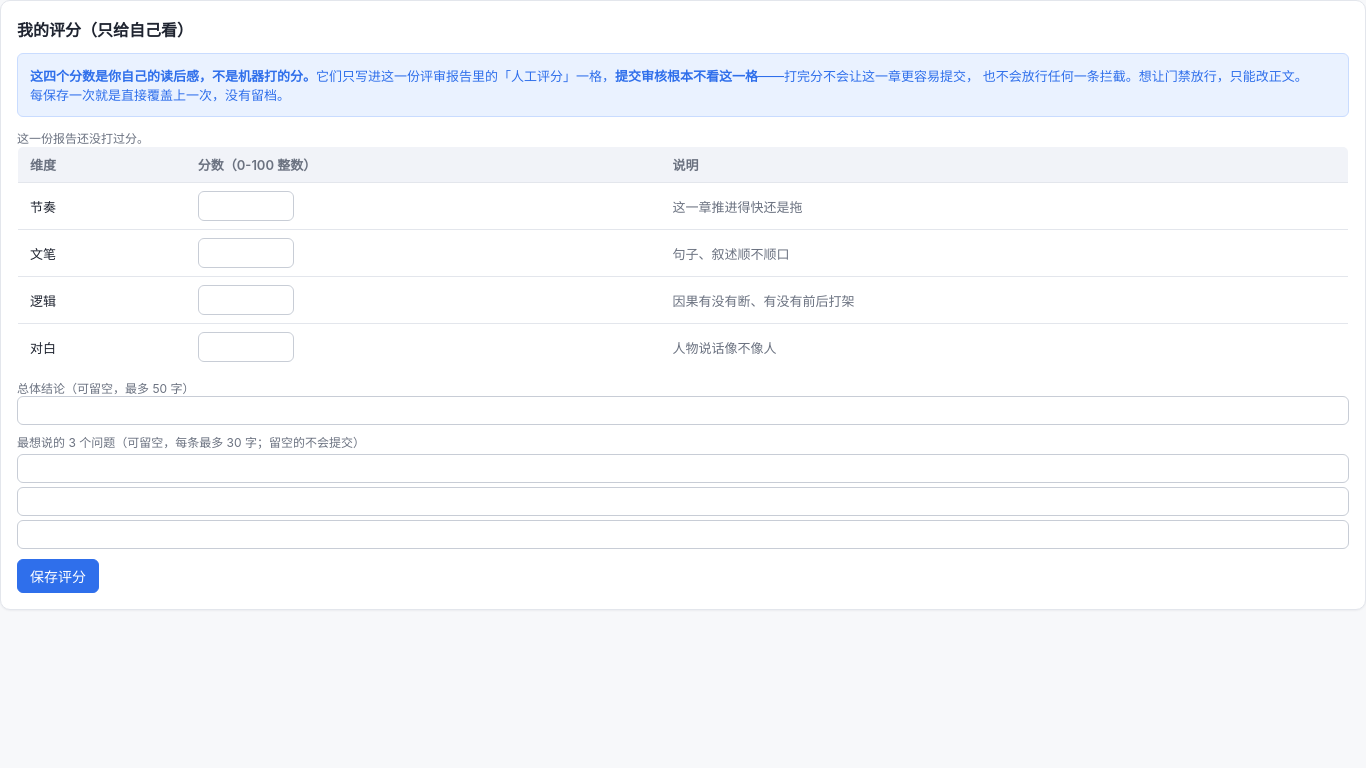
Test case: ChapterJudgeSection › 提交成功 ⇒ 展示服务端回读的那一份分（含夹取结果）
Expected: the button with test id "judge-submit" is enabled, 17,559 -> 99,593
Type "80" into the field with test id "judge-score-pacing" at (246,206), box 198,191 -> 294,221
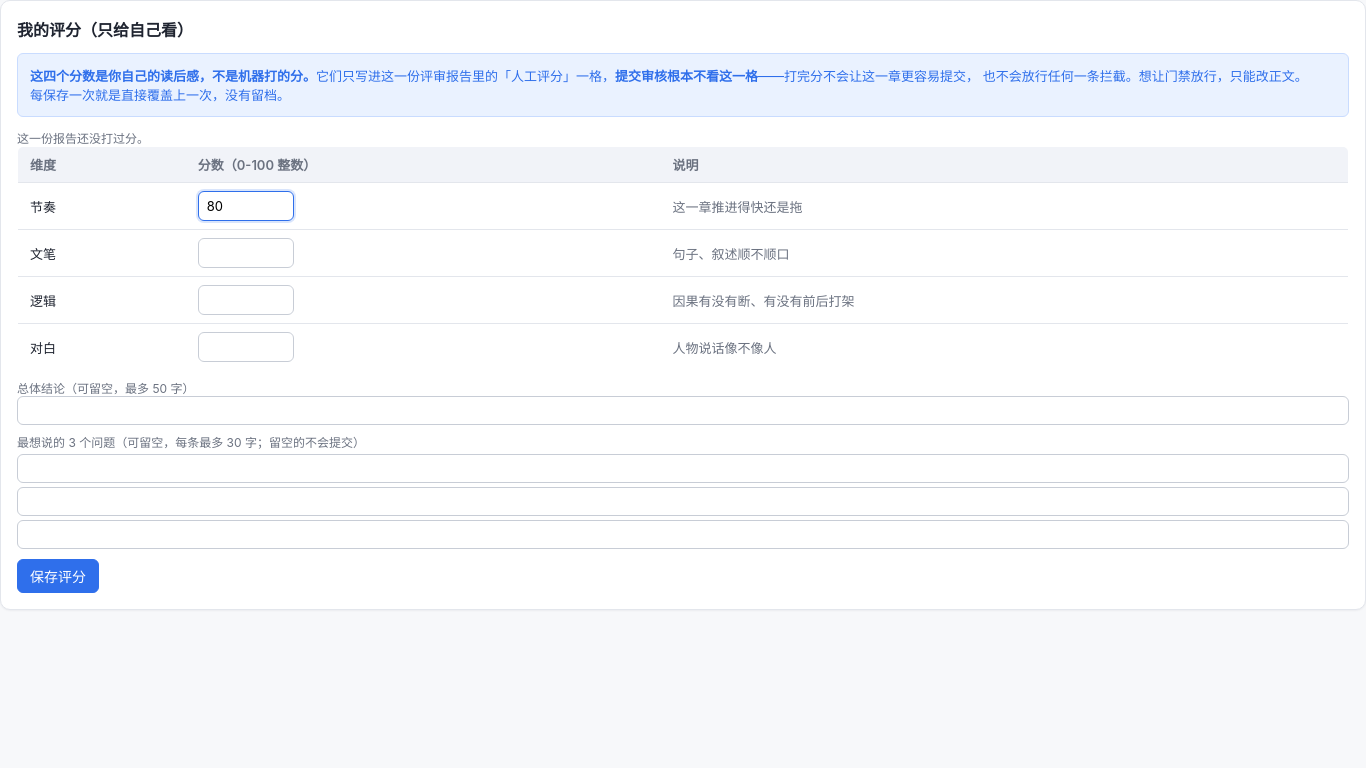
Type "75" into the field with test id "judge-score-style" at (246,253), box 198,238 -> 294,268
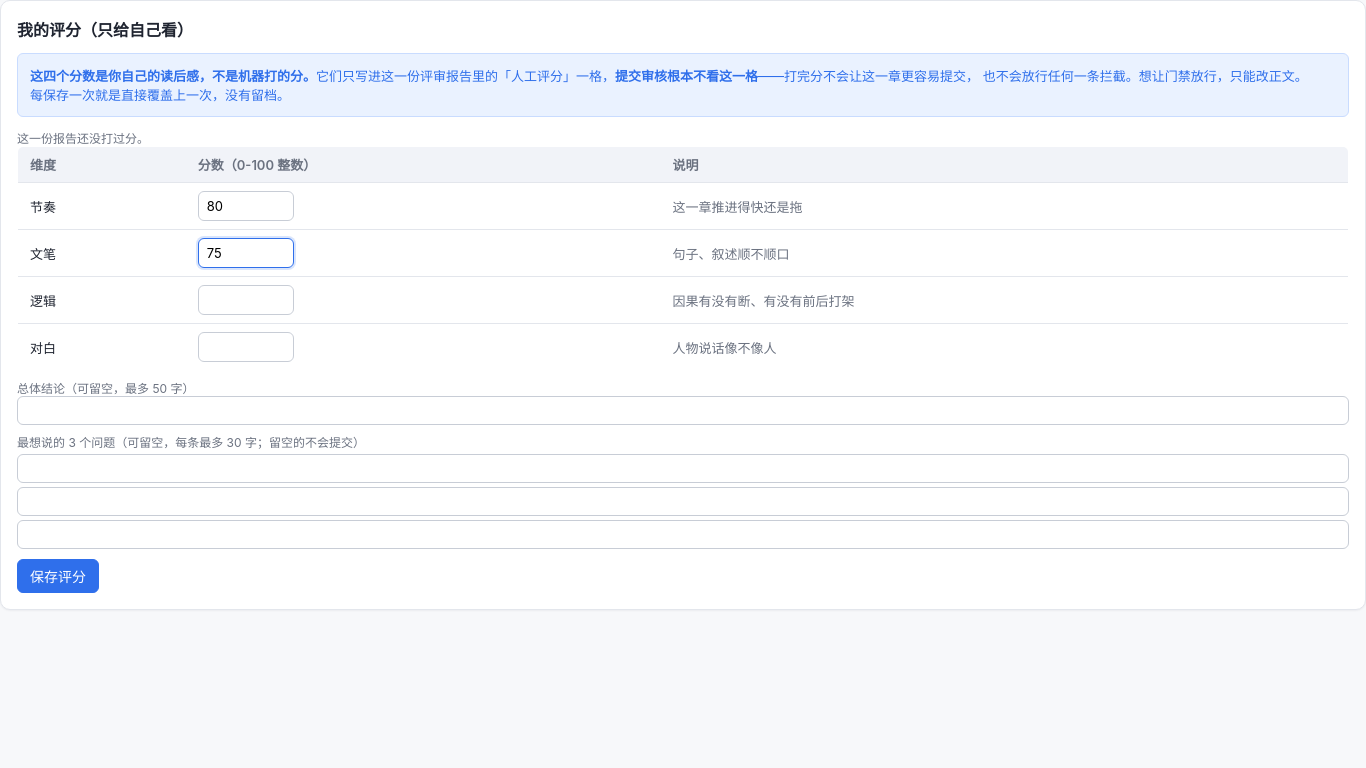
Type "88" into the field with test id "judge-score-logic" at (246,300), box 198,285 -> 294,315
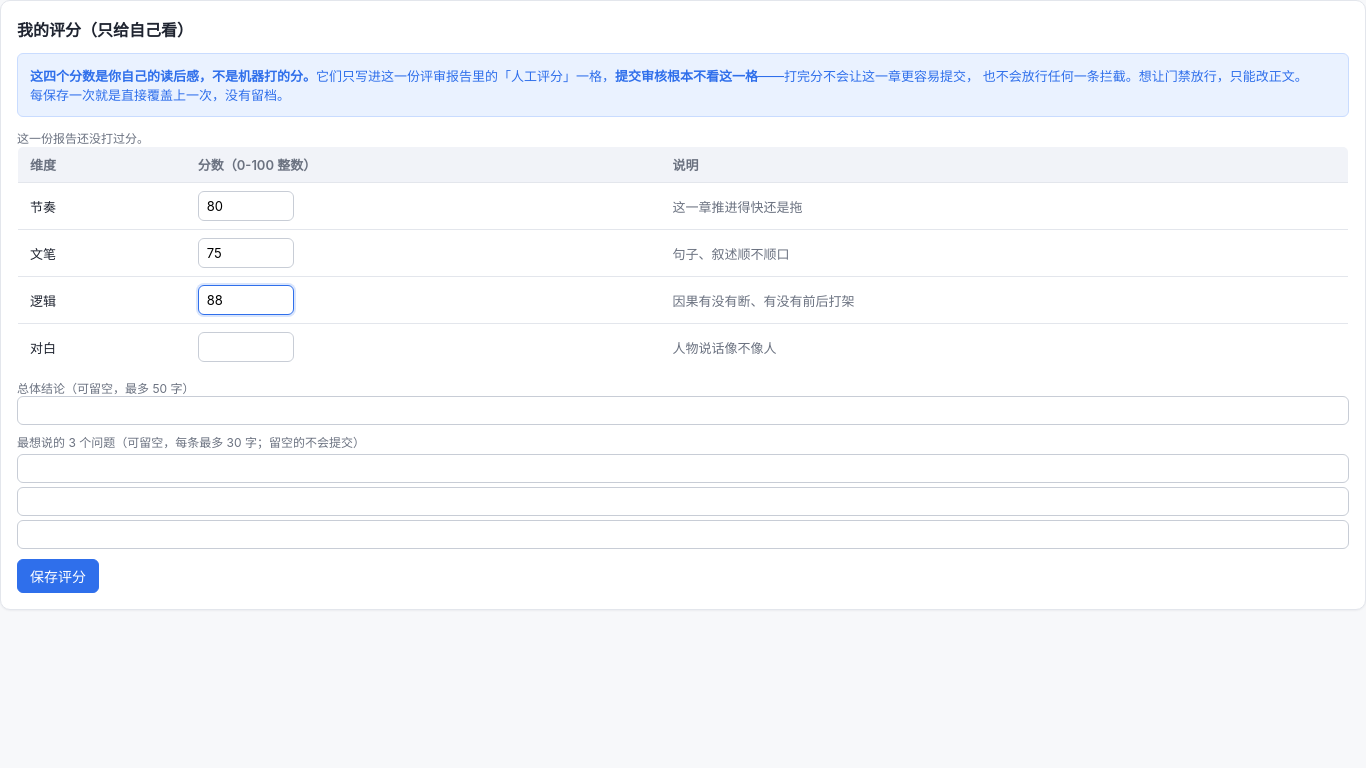
Type "70" into the field with test id "judge-score-dialogue" at (246,347), box 198,332 -> 294,362
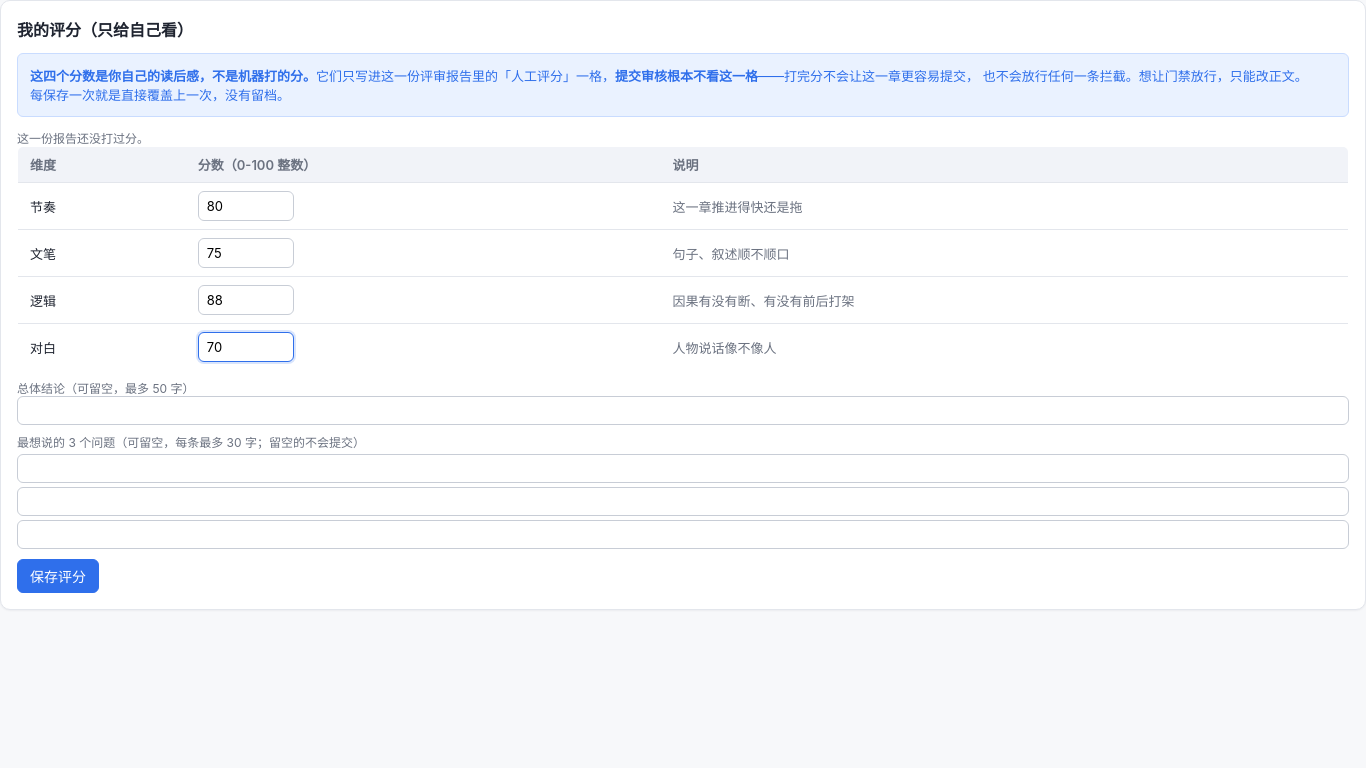
Type "收尾再紧一点" into the field with test id "judge-verdict" at (683,410), box 17,396 -> 1349,425
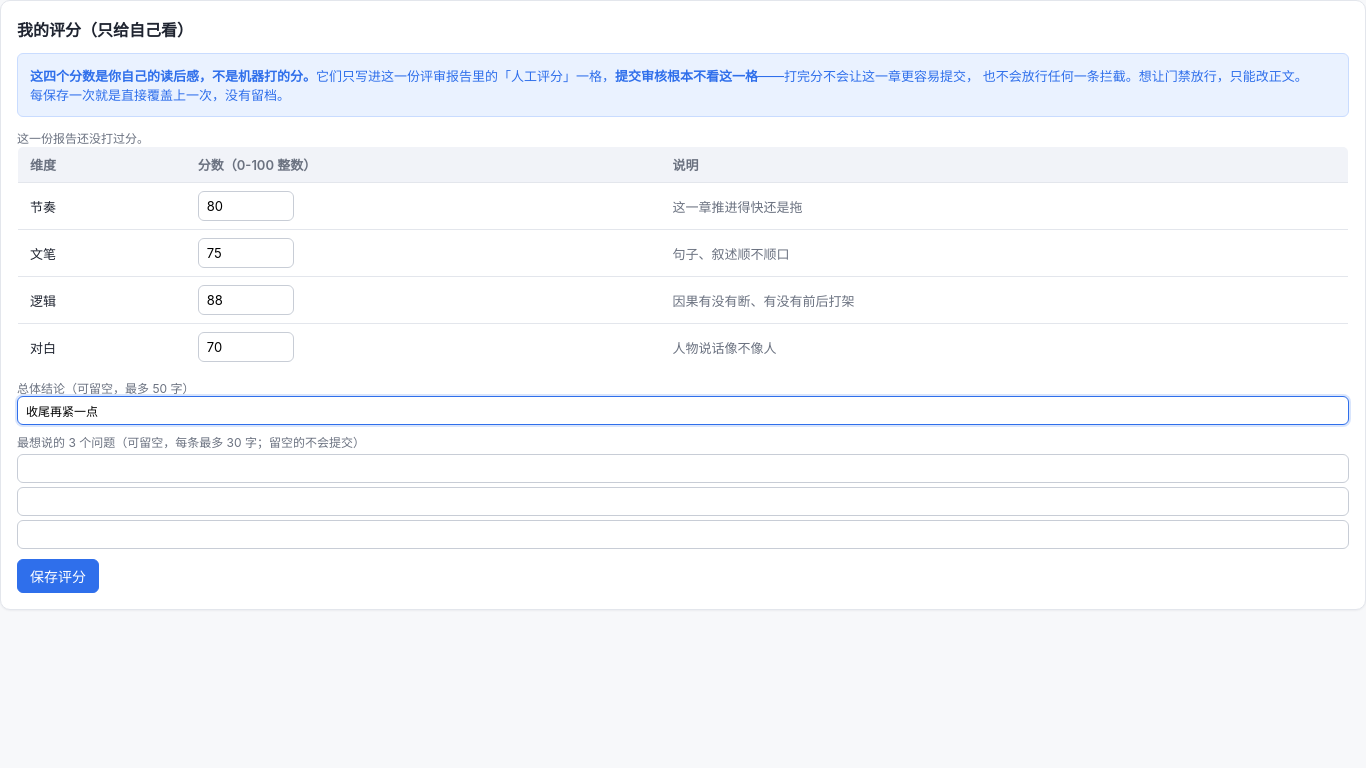
Click the button with test id "judge-submit" at (58,576), box 17,559 -> 99,593
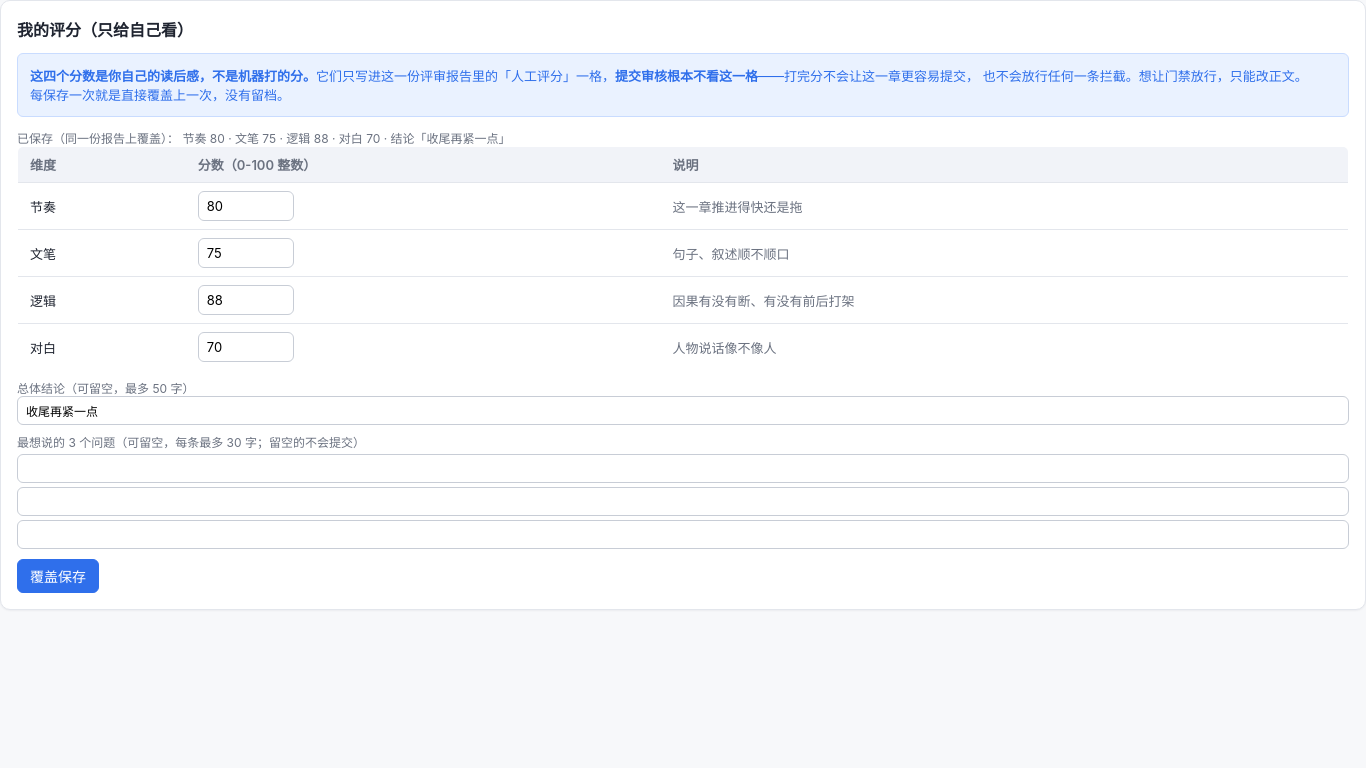
Expected: the text with test id "judge-saved" shows "节奏 80", 182,131 -> 380,146
Expected: the text with test id "judge-saved" shows "收尾再紧一点", 380,131 -> 510,146
